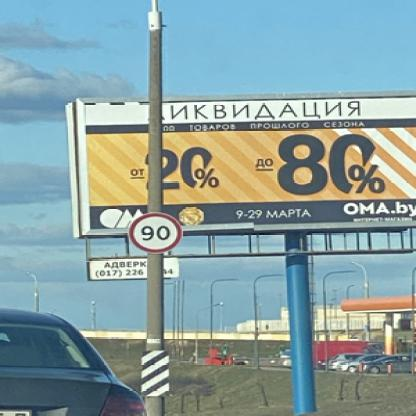speedlimit: (126, 214, 179, 251)
